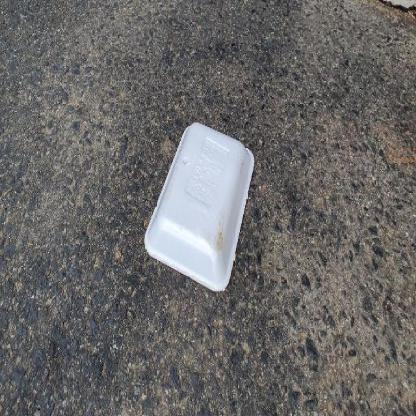Glass Cup: (145, 122, 255, 291), (145, 122, 254, 292)
